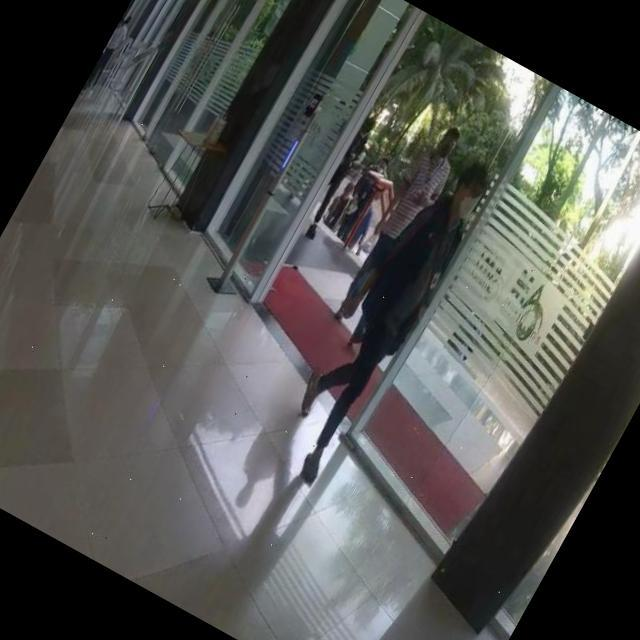person: (264, 146, 500, 495), (322, 117, 472, 340), (297, 112, 383, 246)
